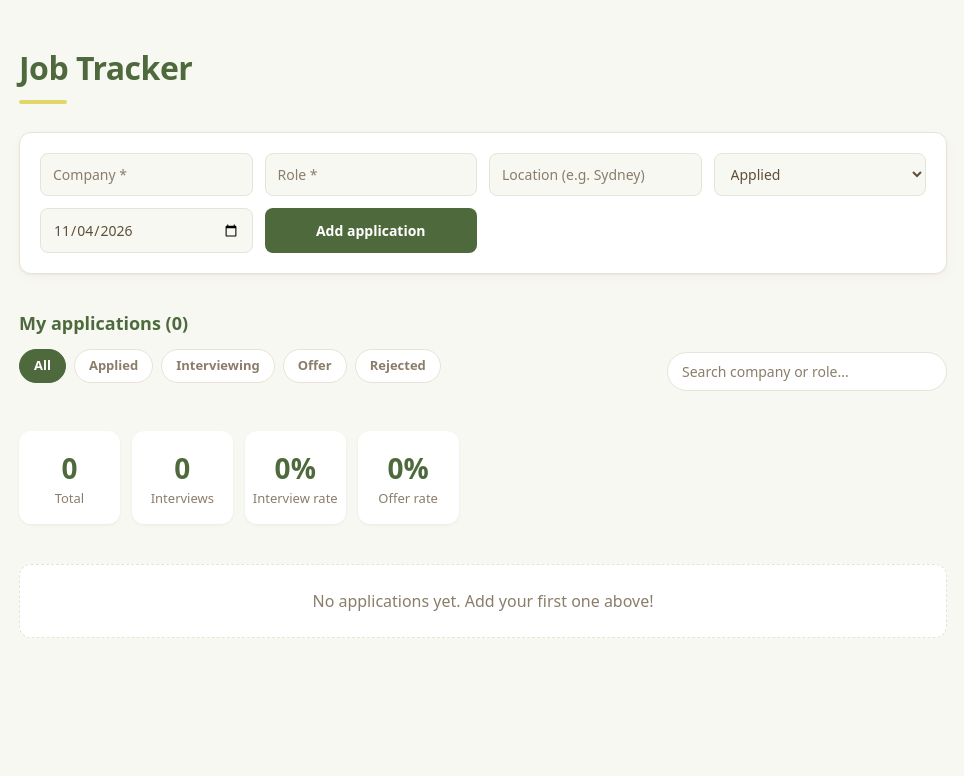
App › adds a new application to the table
The width and height of the screenshot is (964, 776).
Expected: the text "No applications yet. Add your first one above!" is shown, [19,564,947,638]
Note: add an application
In the field with placeholder "Company *": (146, 174) [40,153,252,196], type "Atlassian"
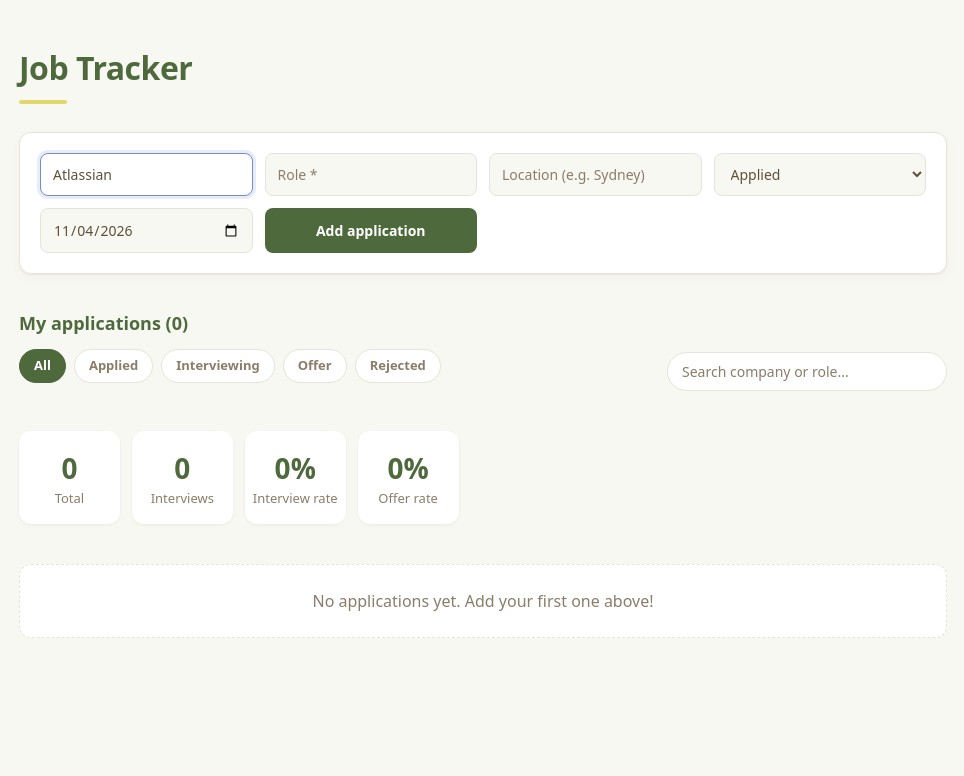
In the field with placeholder "Role *": (371, 174) [264,153,477,196], type "Frontend Developer"
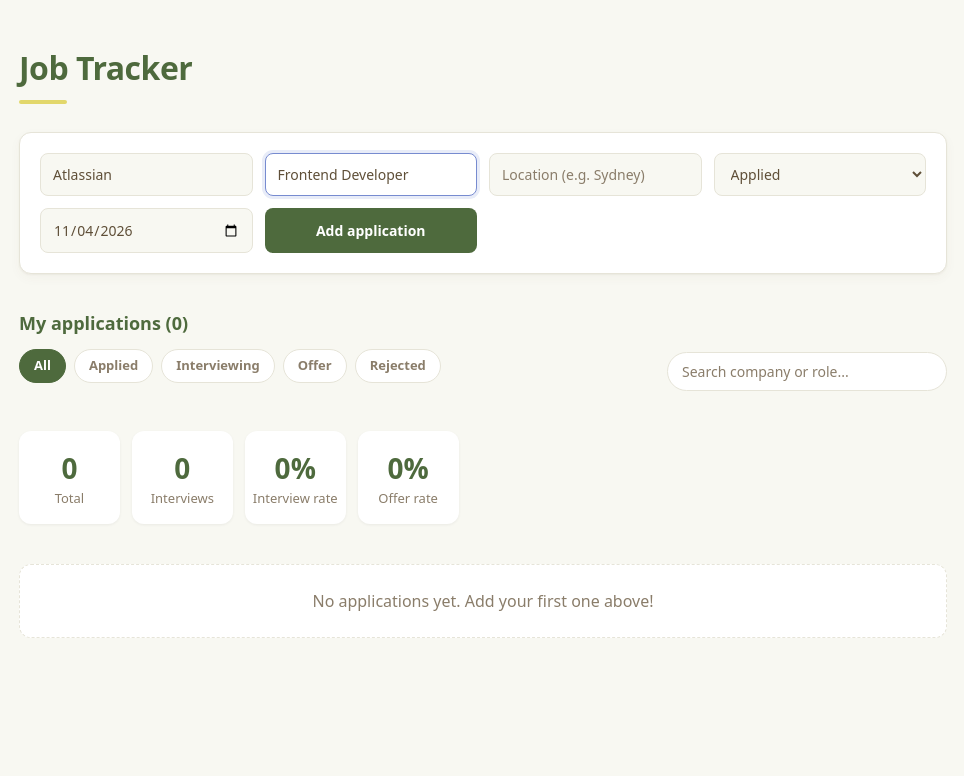
Click the button "Add application": click(371, 230) [264,208,477,253]
(page scrolled)
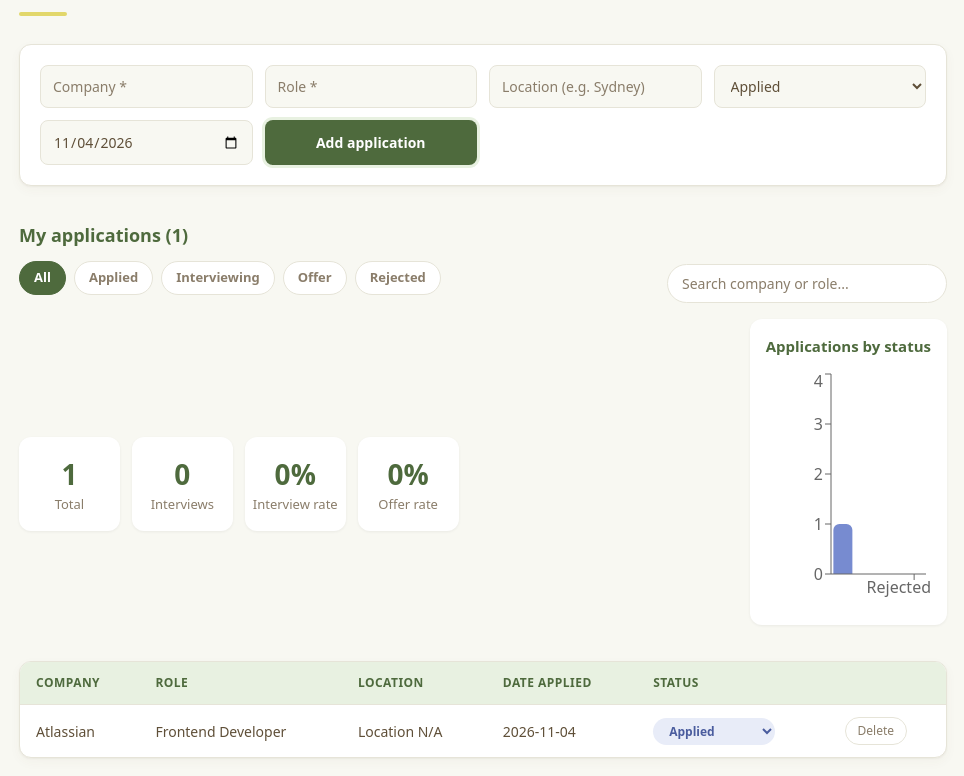
Expected: the text "Atlassian" is shown, [20,704,139,757]
Expected: the text "Frontend Developer" is shown, [139,704,342,757]
Expected: the text "No applications yet" is gone
